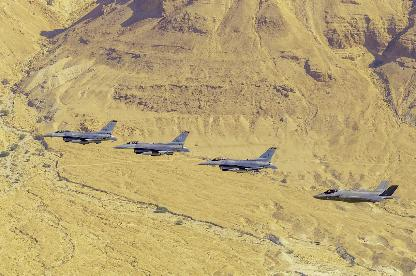F14: (199, 147, 279, 173), (42, 120, 120, 144), (113, 132, 191, 156)
F22: (314, 181, 402, 203)
